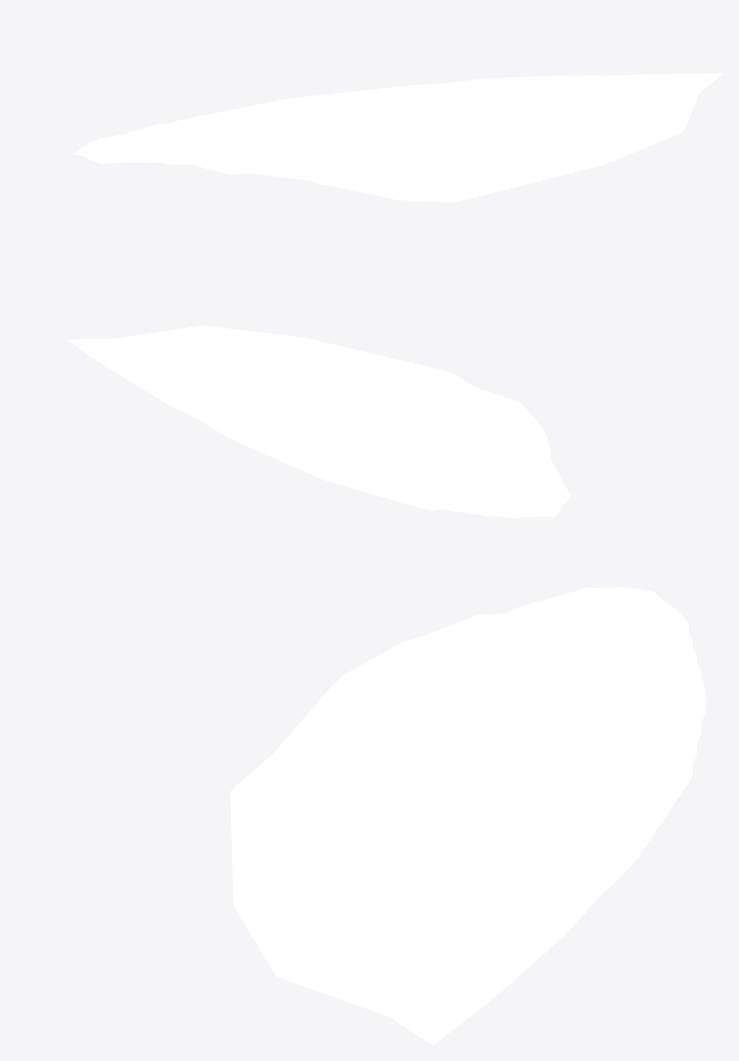
The picture shows the model from 3 angles, top to bottom: view 1: azimuth 30°, elevation 25°; view 2: azimuth 150°, elevation 25°; view 3: azimuth 270°, elevation 25°; orthographic projection. The views are drawn at different scales.
Visible parts, largest first — view 1: SM_Harralander_Diseased_LOD0; view 2: SM_Harralander_Diseased_LOD0; view 3: SM_Harralander_Diseased_LOD0.
Boxes of the visible parts, x1,y1,x2,y2 form: SM_Harralander_Diseased_LOD0: (73,73,723,202); SM_Harralander_Diseased_LOD0: (66,325,571,518); SM_Harralander_Diseased_LOD0: (230,587,706,1045).
Bounding box in the file's own units: 2.19 × 0.1022 × 1.41.
